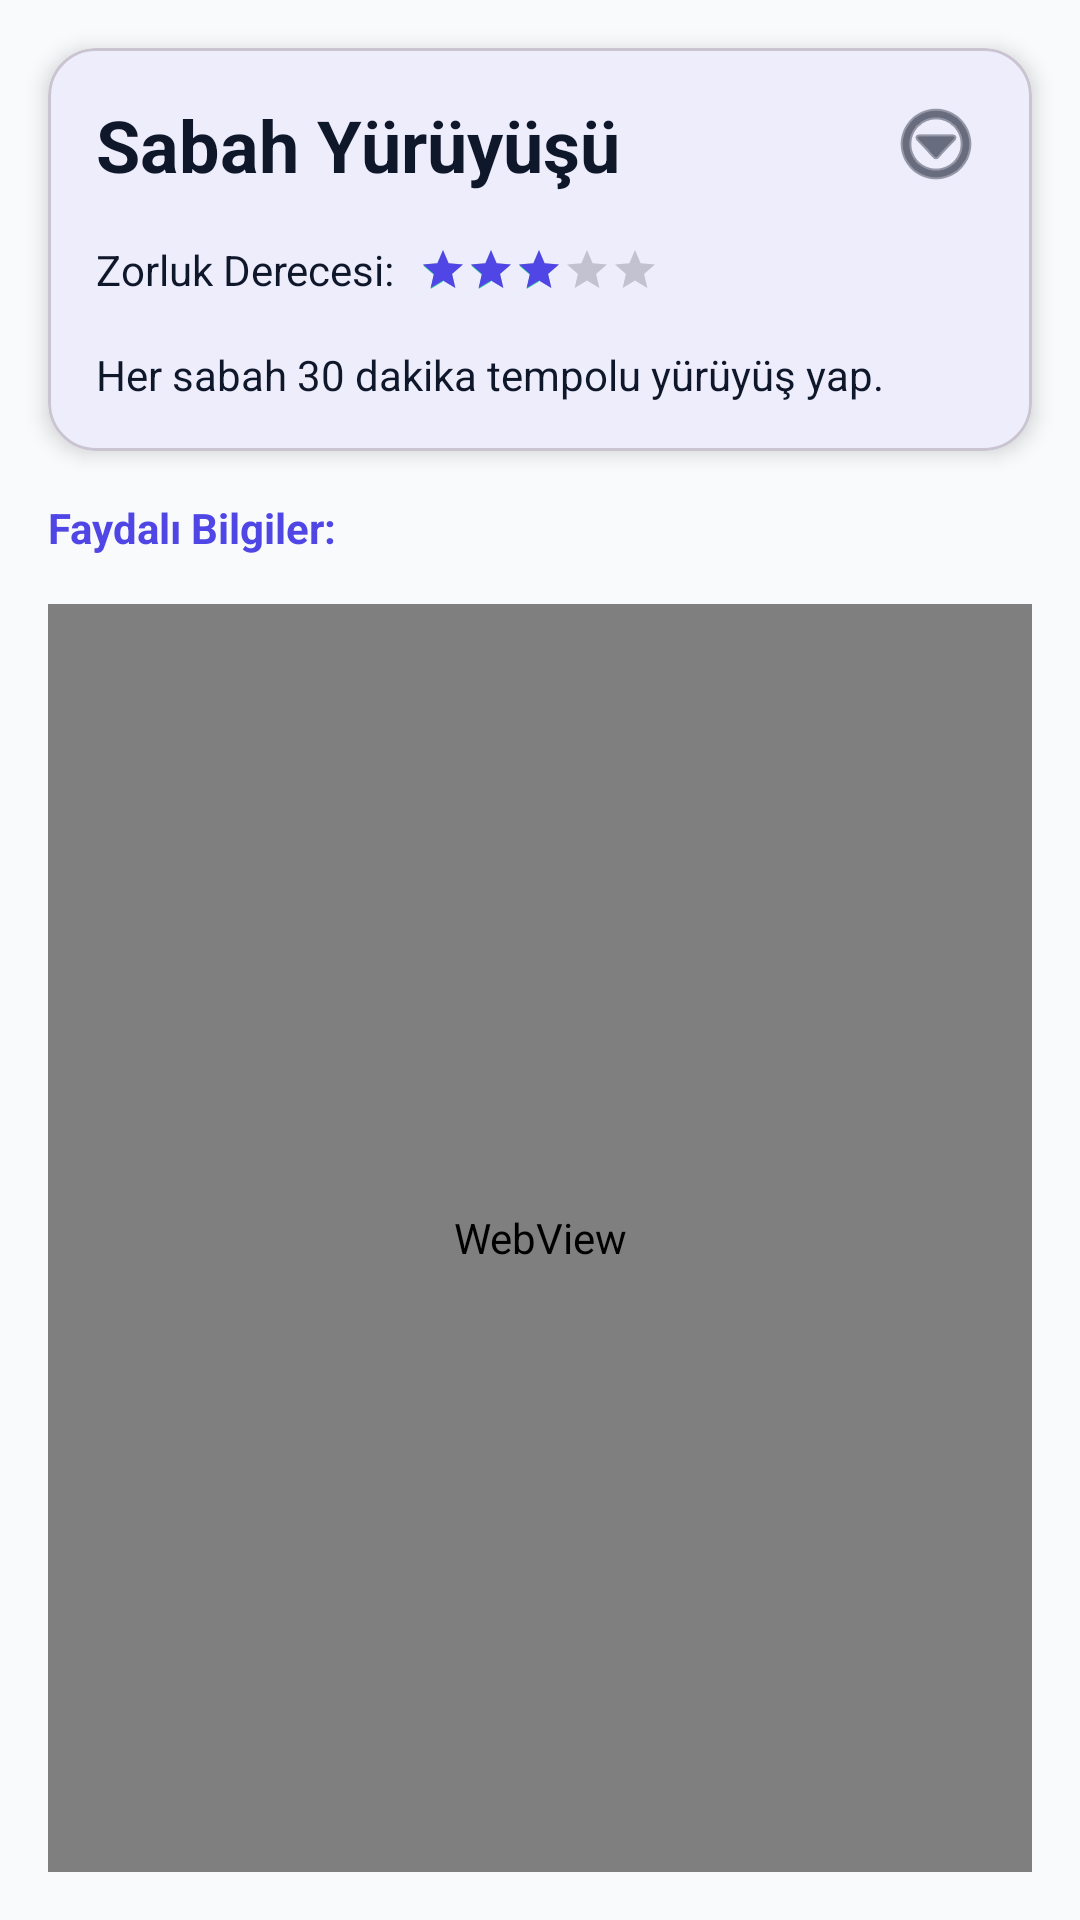

Where icons sit on this 1080 x 1920 app screen, as (x1, y1, x2, y2):
more: (900, 108, 972, 180)
